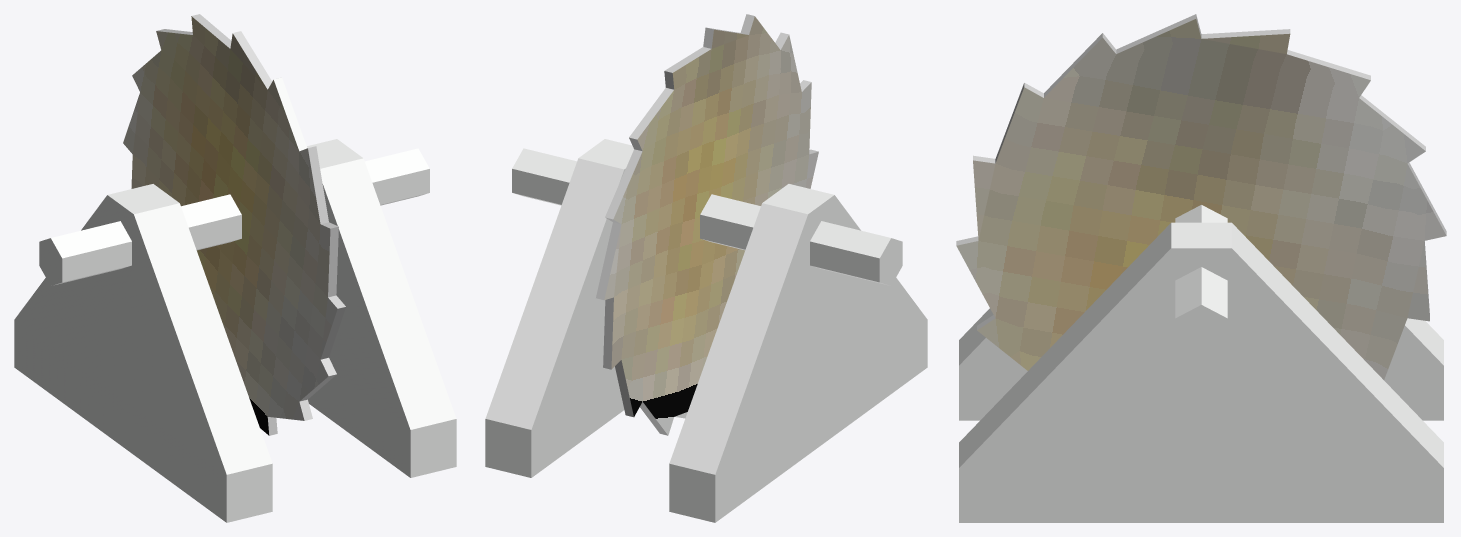
Rendered from sawblade.obj.
The picture shows the model from 3 angles, left to right: view 1: azimuth 30°, elevation 25°; view 2: azimuth 150°, elevation 25°; view 3: azimuth 270°, elevation 25°; orthographic projection. The views are drawn at different scales.
Visible parts, largest first — view 1: Chassis, Saw; view 2: Chassis, Saw; view 3: Chassis, Saw.
Part boxes in pixels (<box>): Chassis: <box>14,139,456,522</box>; Saw: <box>123,14,345,435</box>; Chassis: <box>485,139,927,522</box>; Saw: <box>596,14,818,435</box>; Chassis: <box>959,205,1443,522</box>; Saw: <box>956,14,1446,379</box>.
Bounding box in the file's own units: 1 × 1.01 × 1.01.
